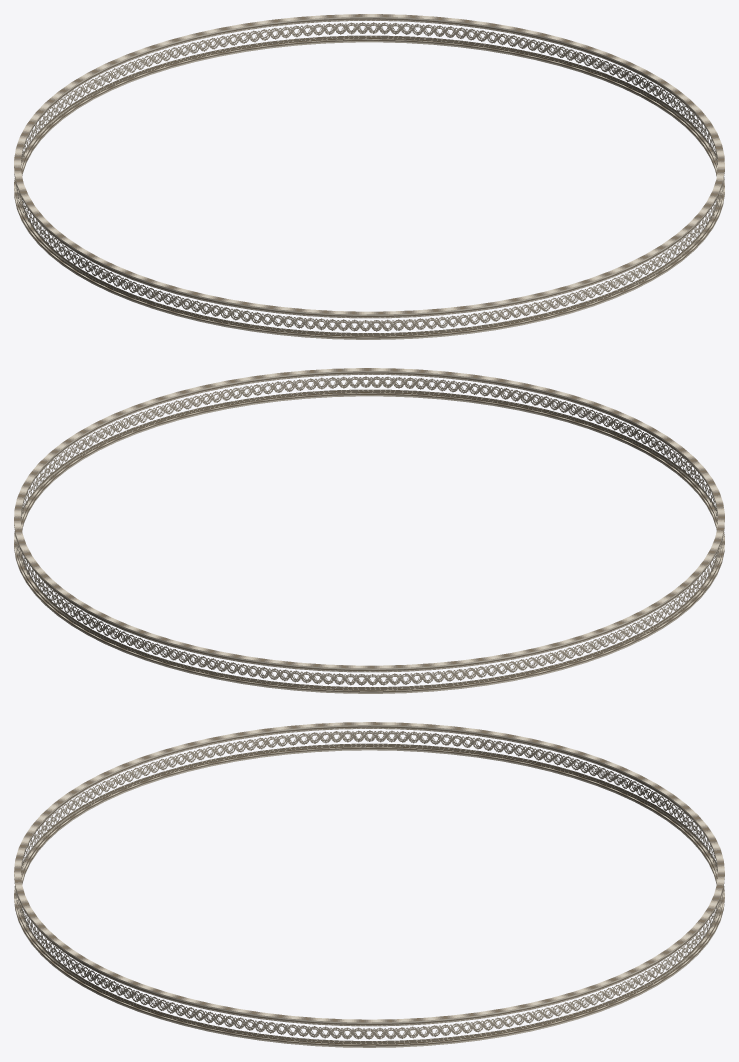
File: ring_3.obj
The picture shows the model from 3 angles, top to bottom: view 1: azimuth 30°, elevation 25°; view 2: azimuth 150°, elevation 25°; view 3: azimuth 270°, elevation 25°; orthographic projection.
Bounding box in the file's own units: 28.92 × 1.14 × 28.92.
